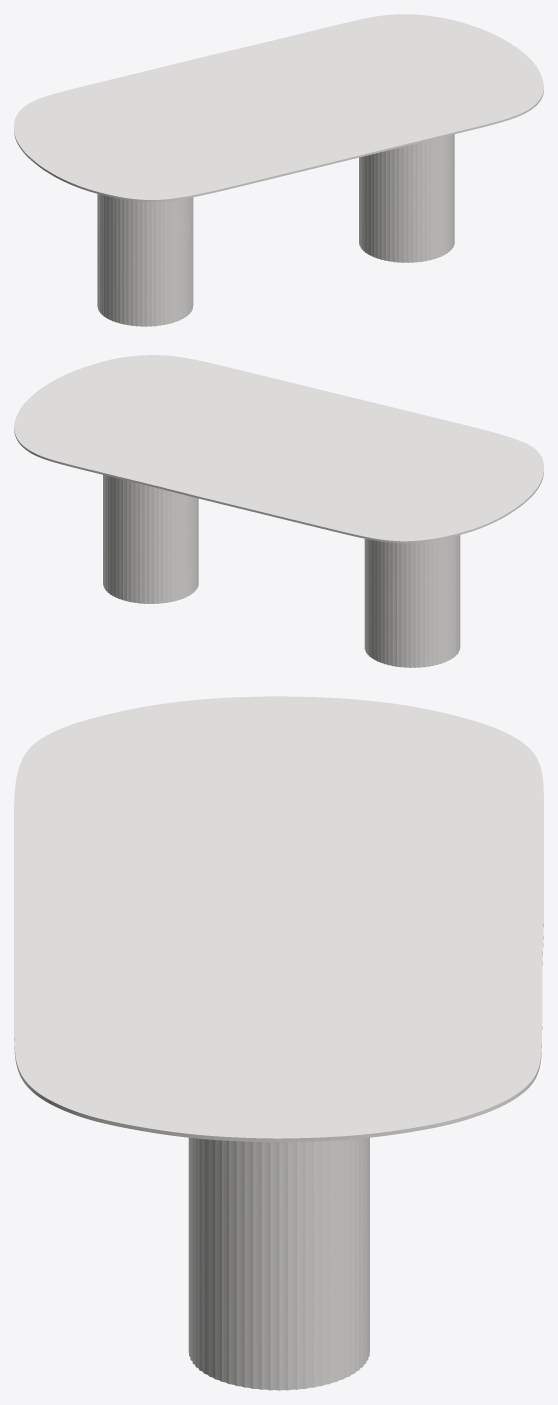
The model's file is purewhite_oval_facet_ripplesecond.glb.
3 views of the same model, one above another, from view 1: azimuth 30°, elevation 25°; view 2: azimuth 150°, elevation 25°; view 3: azimuth 270°, elevation 25° (orthographic). The views are drawn at different scales.
Parts seen in each view (by area): view 1: facet_oval, ripplesecond; view 2: facet_oval, ripplesecond; view 3: facet_oval, ripplesecond.
Boxes of the visible parts, bbox=[...] form: facet_oval: bbox=[14, 14, 543, 201]; ripplesecond: bbox=[97, 134, 454, 326]; facet_oval: bbox=[14, 355, 543, 543]; ripplesecond: bbox=[103, 475, 460, 667]; facet_oval: bbox=[14, 696, 543, 1142]; ripplesecond: bbox=[188, 1137, 369, 1390].
Size of the model in its own units: 7.5 by 2.5 by 3.8.
Materials: 1 (1 with a texture image).
